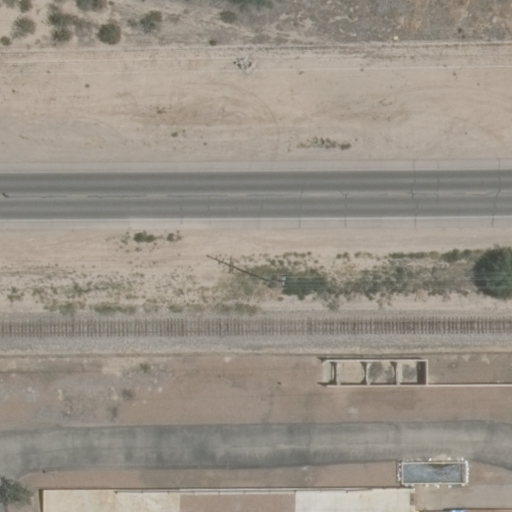DT: (261, 266, 290, 290)
